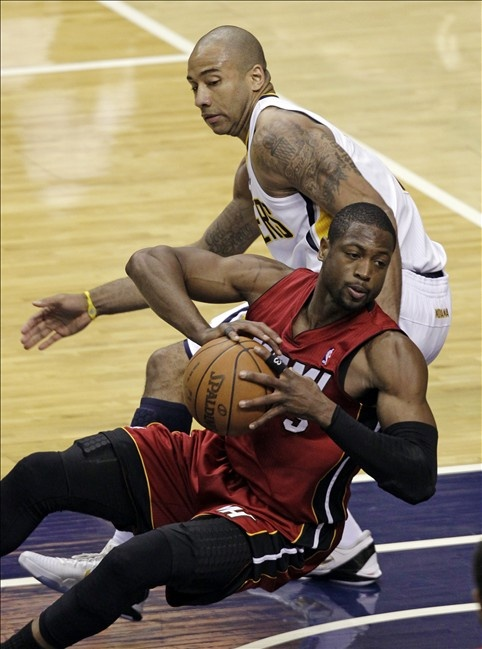falling: (19, 204, 449, 635)
